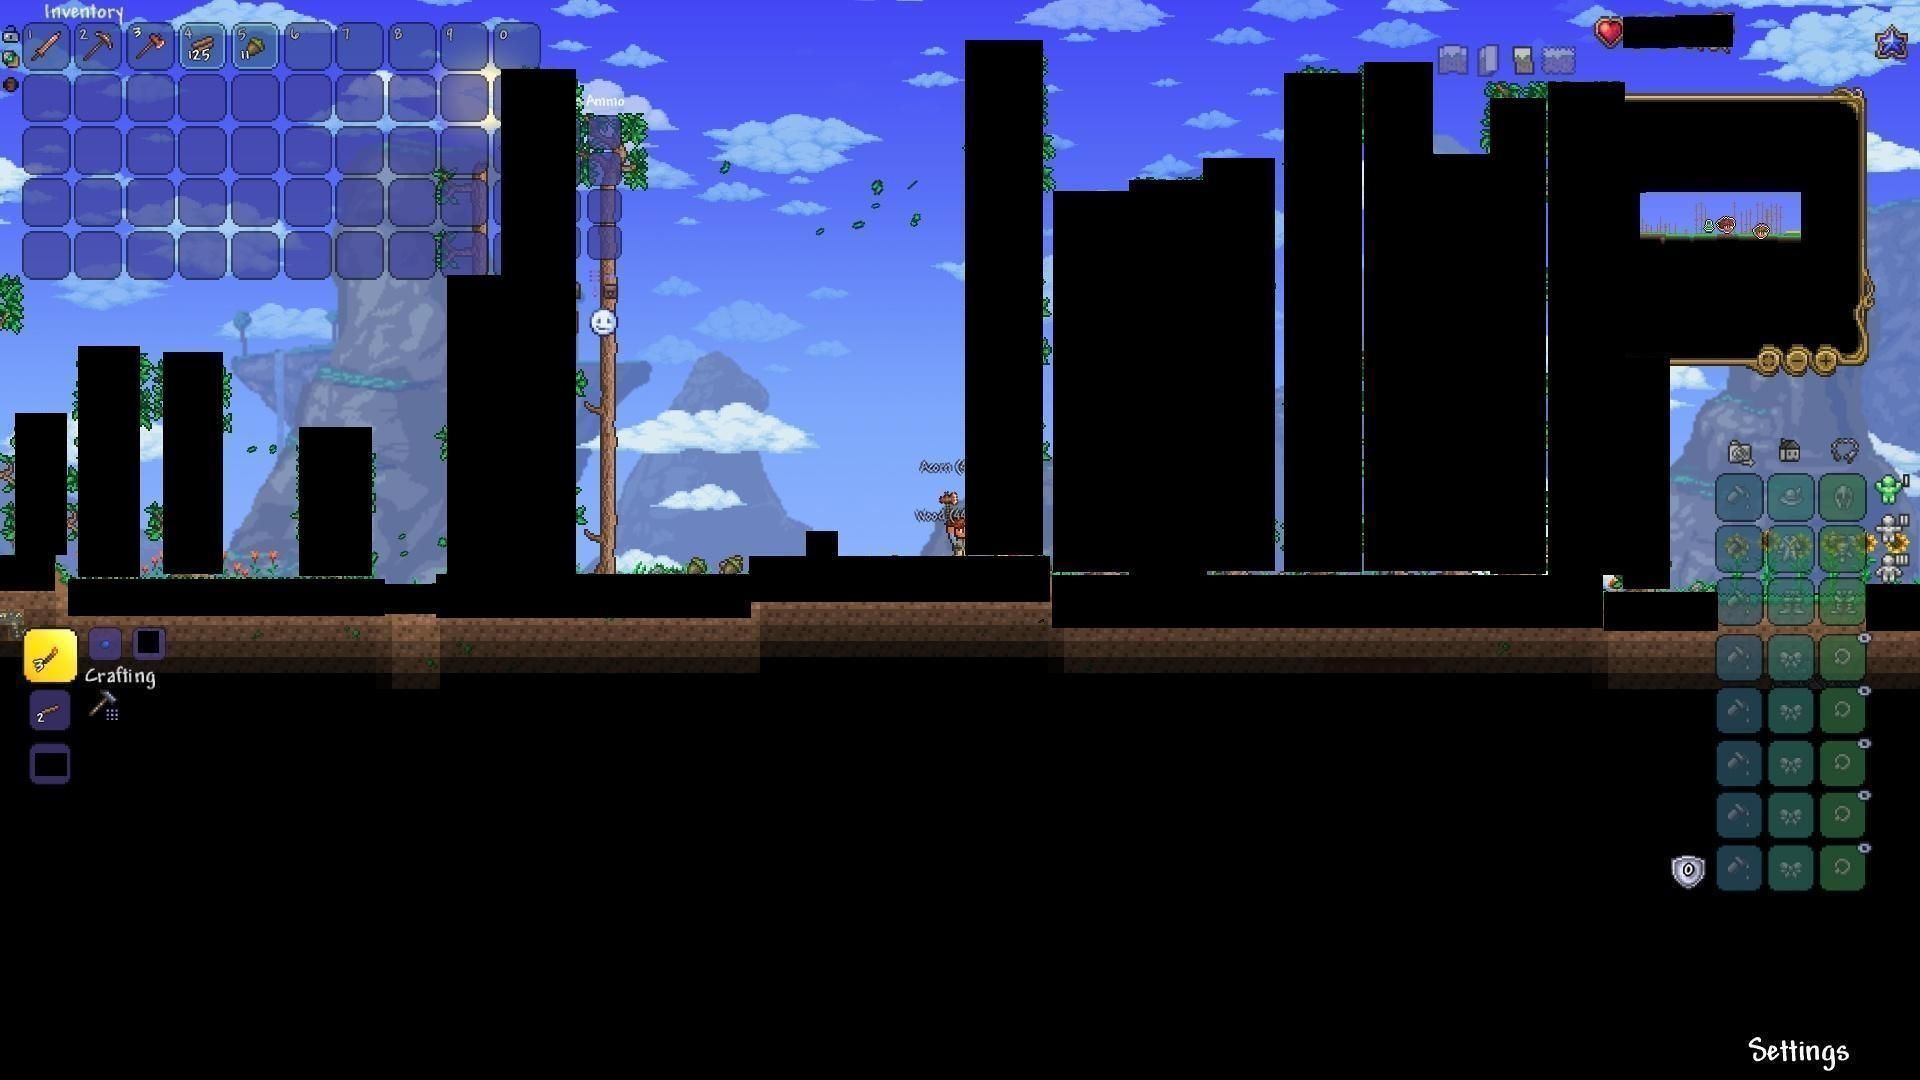heart: (1596, 15, 1627, 45)
tree: (588, 99, 669, 568)
wood: (189, 34, 216, 55)
